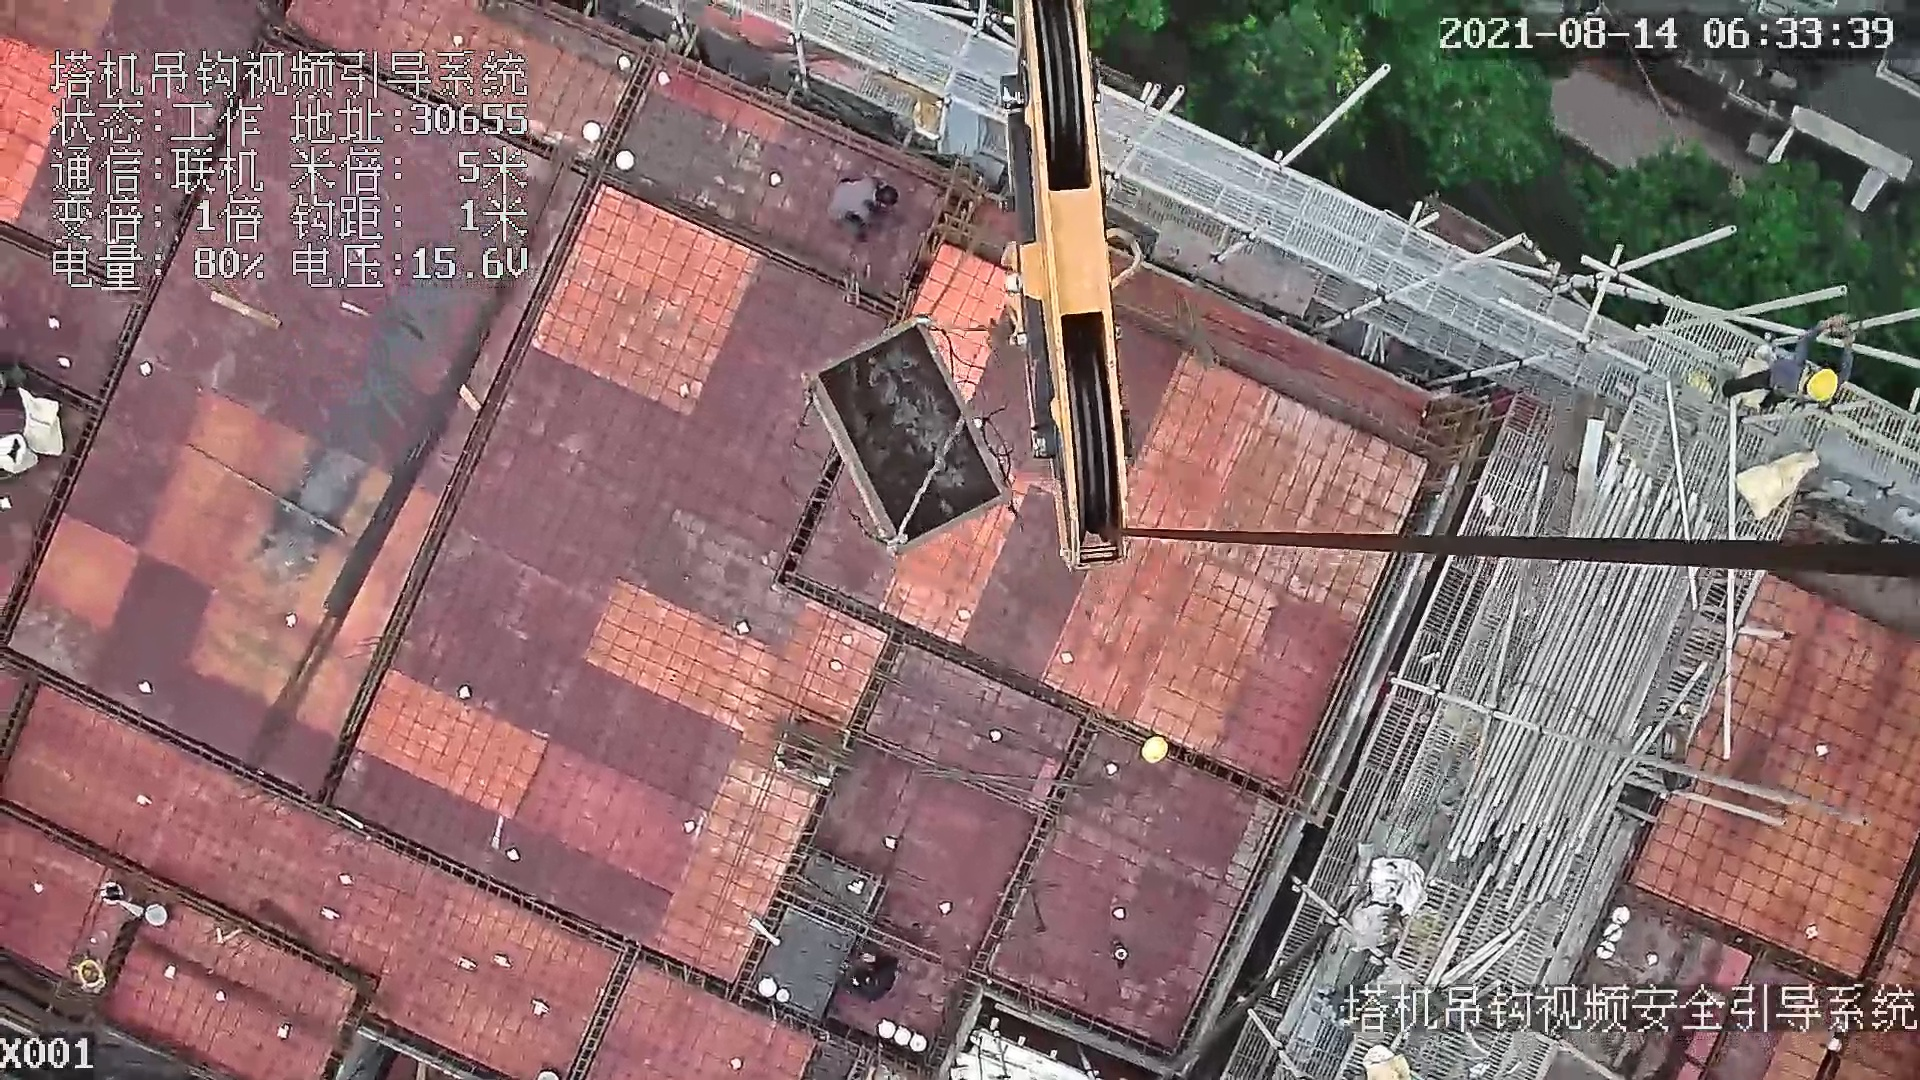helmet: (1133, 726, 1170, 773), (1808, 369, 1841, 403)
hook: (981, 1, 1136, 567)
hopper: (778, 306, 1018, 550)
person: (1715, 308, 1855, 412), (819, 167, 900, 244), (846, 945, 909, 1005)
scaffold: (1505, 444, 1712, 923)
